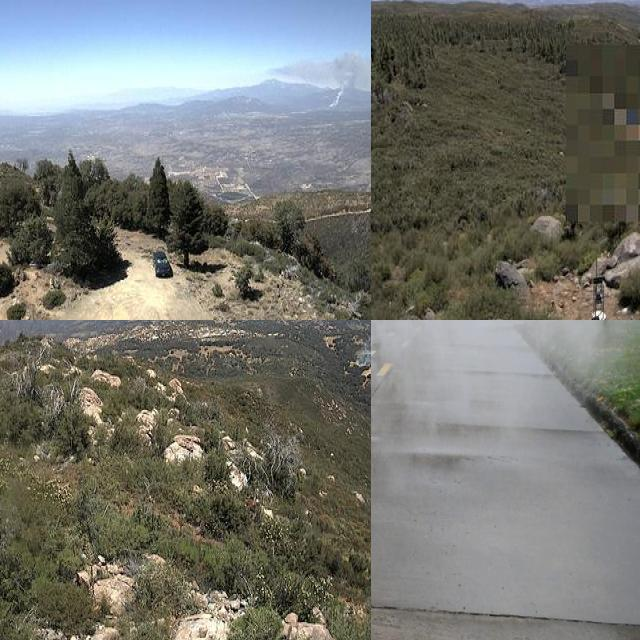smoke: (371, 320, 624, 554), (266, 46, 371, 116), (347, 323, 371, 371)
